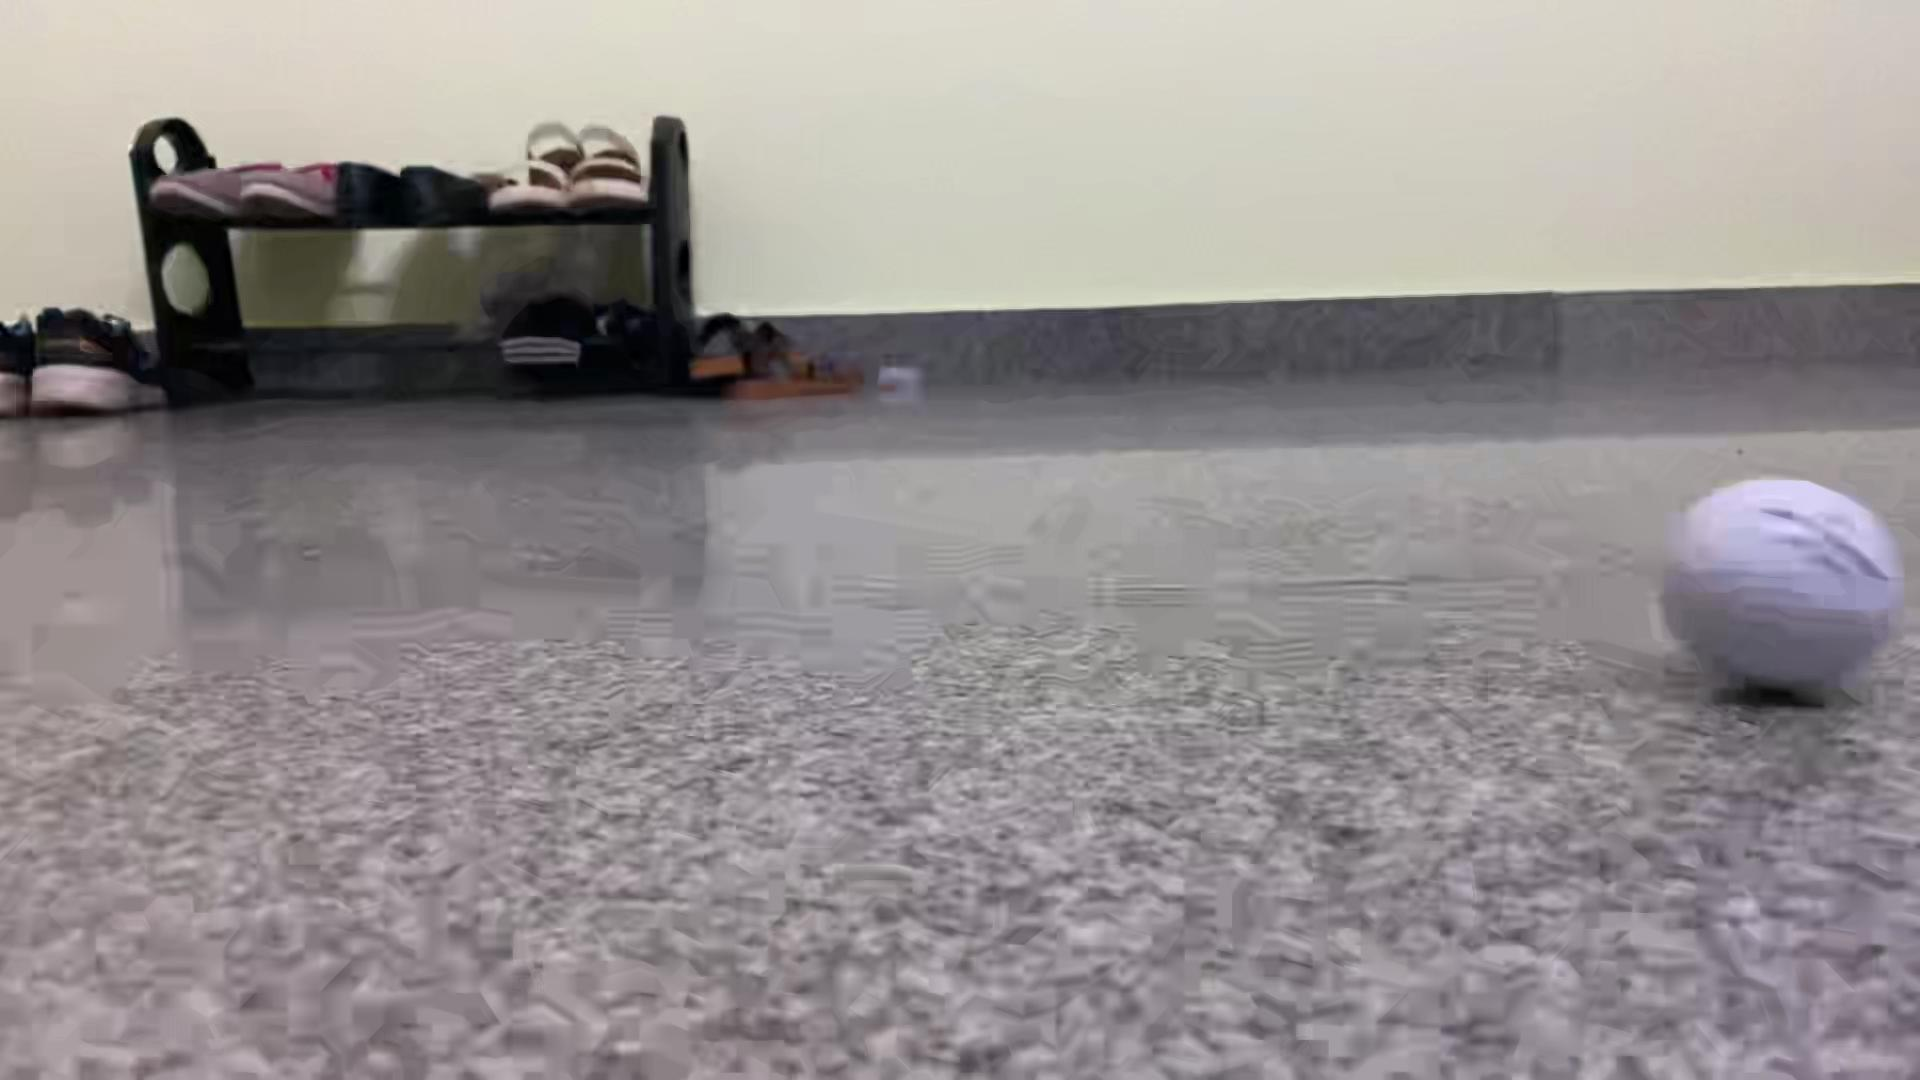golfball: (1660, 480, 1903, 698)
